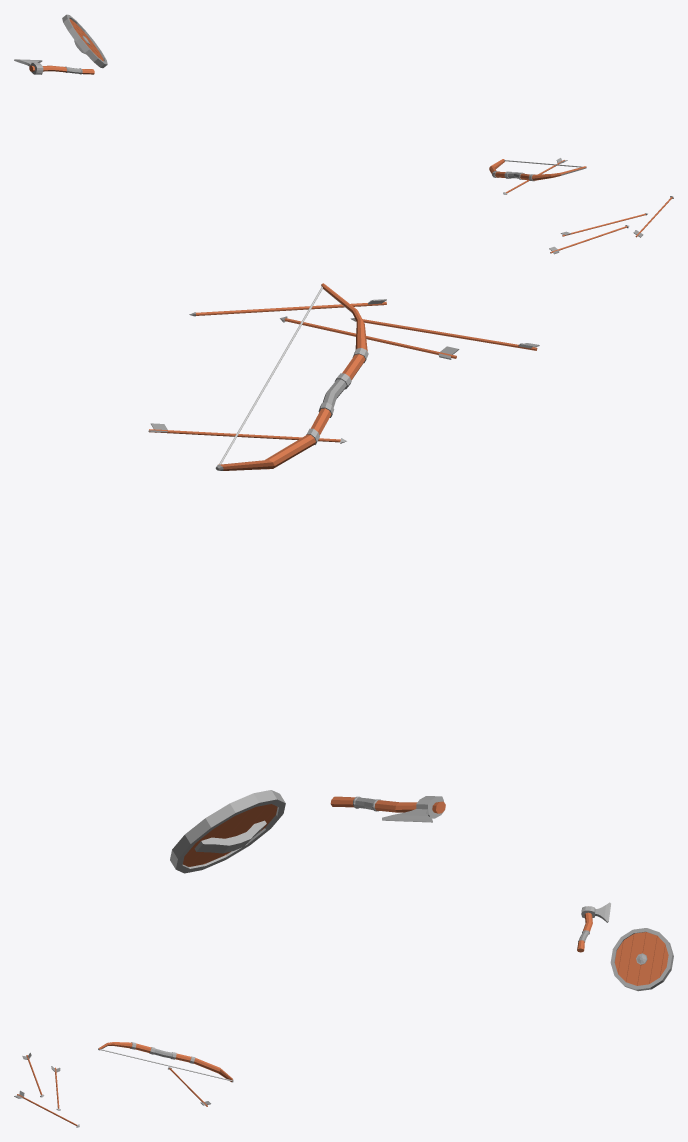
The model's file is Tools.gltf.
3 renders of one model, top to bottom at view 1: azimuth 30°, elevation 25°; view 2: azimuth 150°, elevation 25°; view 3: azimuth 270°, elevation 25°, orthographic. The views are drawn at different scales.
Visible parts, largest first — view 1: ShieldCircular, Bow, Axe; view 2: ShieldCircular, Bow, Axe; view 3: ShieldCircular, Bow, Axe.
Boxes of the visible parts, x1,y1,x2,y2 form: ShieldCircular: (62,14,107,68); Bow: (489,159,586,181); Axe: (14,59,94,74); ShieldCircular: (170,790,285,873); Bow: (215,283,368,470); Axe: (330,796,445,822); ShieldCircular: (610,928,673,991); Bow: (98,1042,233,1082); Axe: (577,902,610,952).
Size of the model in its own units: 13.9 by 1.68 by 20.53.
